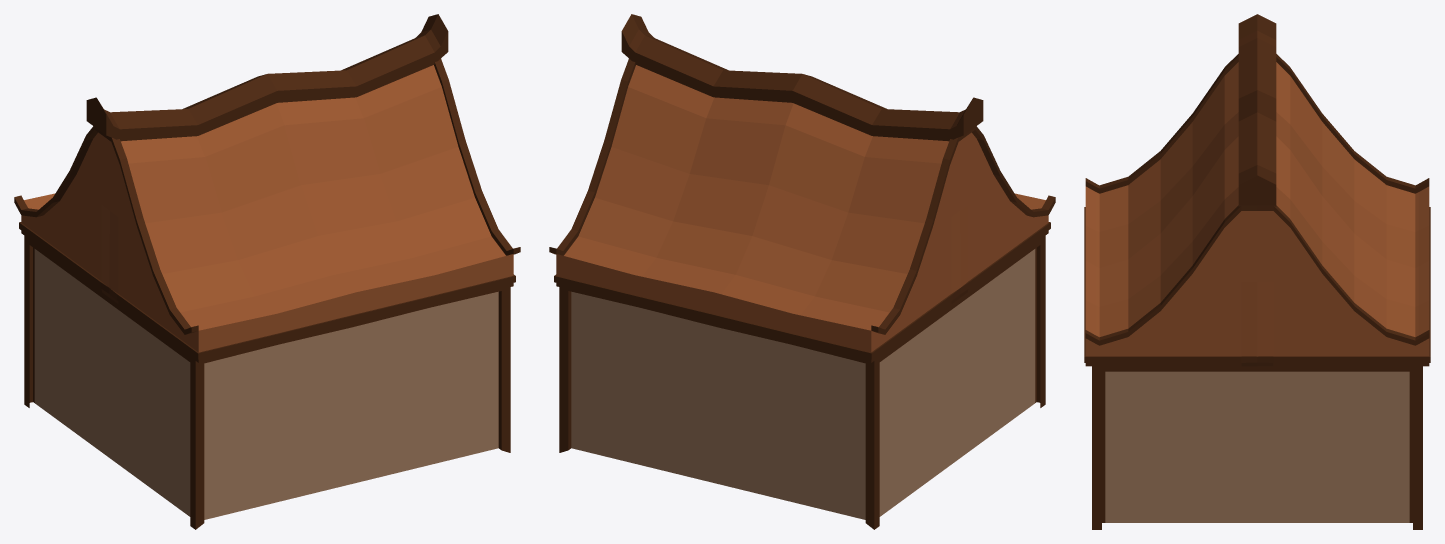
File: newHouse.fbx
3 renders of one model, left to right at view 1: azimuth 30°, elevation 25°; view 2: azimuth 150°, elevation 25°; view 3: azimuth 270°, elevation 25°, orthographic. The views are drawn at different scales.
Visible parts, largest first — view 1: ChineseOderJapaneseHouse; view 2: ChineseOderJapaneseHouse; view 3: ChineseOderJapaneseHouse.
Part boxes in pixels (x1=…): ChineseOderJapaneseHouse: x1=14, y1=14, x2=520, y2=529; ChineseOderJapaneseHouse: x1=549, y1=14, x2=1055, y2=529; ChineseOderJapaneseHouse: x1=1084, y1=14, x2=1430, y2=529.
Size of the model in its own units: 19.86 by 20.71 by 18.02.
